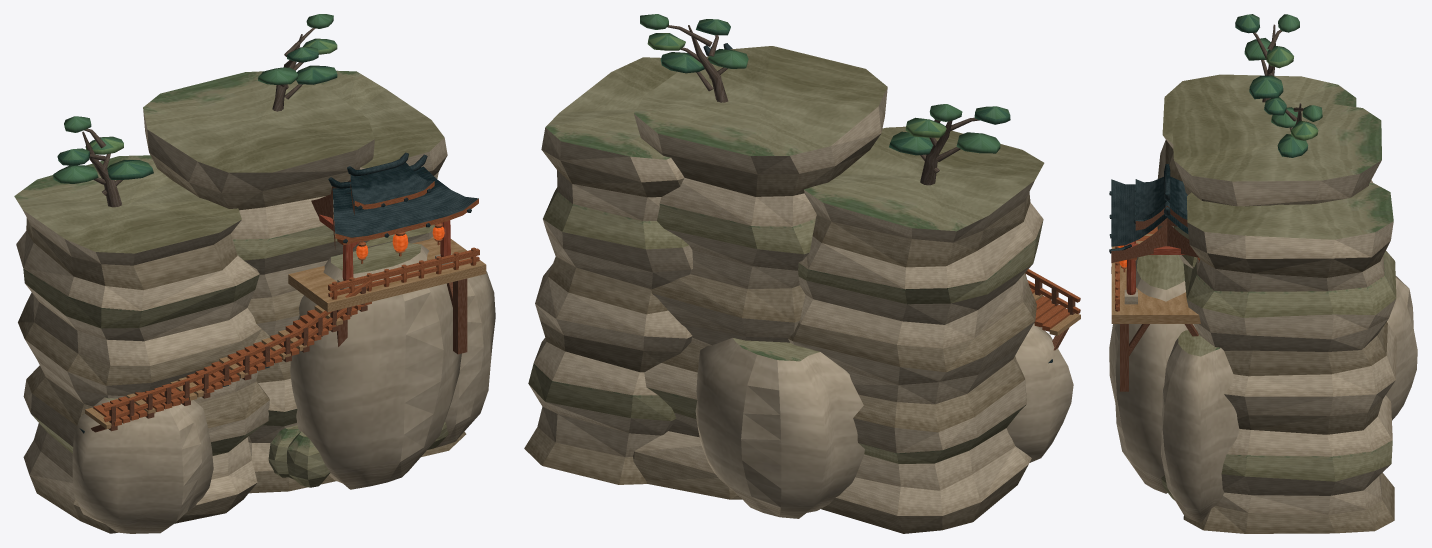
Rendered from zjj_cliff_pavilion_mid.glb.
3 views of the same model, side by side, from view 1: azimuth 30°, elevation 25°; view 2: azimuth 150°, elevation 25°; view 3: azimuth 270°, elevation 25° (orthographic). The views are drawn at different scales.
Visible parts, largest first — view 1: zjj_cliff_pavilion_mid; view 2: zjj_cliff_pavilion_mid; view 3: zjj_cliff_pavilion_mid.
Part boxes in pixels (x1=…): zjj_cliff_pavilion_mid: x1=14, y1=14, x2=495, y2=533; zjj_cliff_pavilion_mid: x1=524, y1=14, x2=1080, y2=533; zjj_cliff_pavilion_mid: x1=1109, y1=14, x2=1417, y2=533.
Bounding box in the file's own units: 20 × 18 × 13.
Materials: 2 (2 with a texture image).
